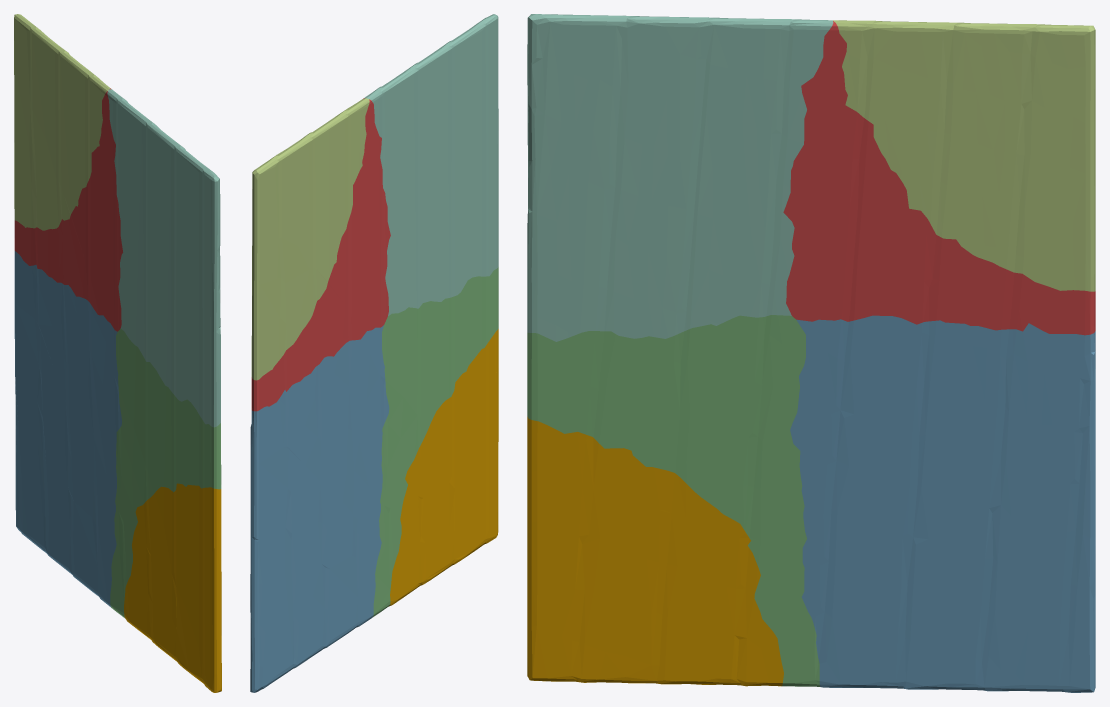
File: fractured_36_6pcs.glb
The picture shows the model from 3 angles, left to right: view 1: azimuth 30°, elevation 25°; view 2: azimuth 150°, elevation 25°; view 3: azimuth 270°, elevation 25°; orthographic projection. The views are drawn at different scales.
Visible parts, largest first — view 1: piece_2.obj, piece_4.obj, piece_0.obj, piece_5.obj, piece_3.obj, piece_1.obj; view 2: piece_2.obj, piece_4.obj, piece_5.obj, piece_0.obj, piece_3.obj, piece_1.obj; view 3: piece_2.obj, piece_4.obj, piece_5.obj, piece_0.obj, piece_3.obj, piece_1.obj.
Part boxes in pixels (x1,y1,x2,y2): piece_2.obj: (14, 251, 121, 607); piece_4.obj: (107, 89, 220, 427); piece_0.obj: (124, 483, 221, 692); piece_5.obj: (14, 14, 110, 230); piece_3.obj: (110, 328, 221, 617); piece_1.obj: (14, 88, 122, 331); piece_2.obj: (250, 325, 389, 692); piece_4.obj: (364, 14, 498, 315); piece_5.obj: (251, 98, 369, 380); piece_0.obj: (389, 329, 498, 606); piece_3.obj: (373, 267, 498, 616); piece_1.obj: (251, 98, 390, 411); piece_2.obj: (790, 315, 1095, 692); piece_4.obj: (527, 14, 833, 341); piece_5.obj: (833, 20, 1095, 291); piece_0.obj: (527, 416, 783, 686); piece_3.obj: (527, 315, 819, 686); piece_1.obj: (783, 21, 1095, 335).
Size of the model in its own units: 0.0563 by 1 by 0.7737.
